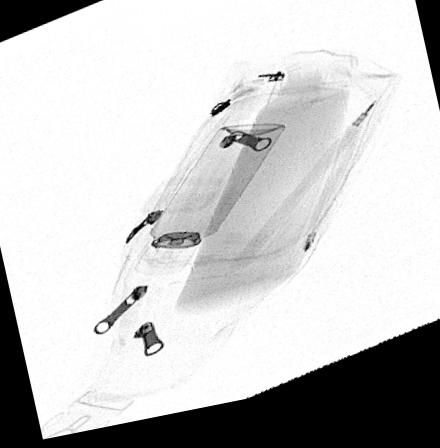Sprayer: (136, 133, 285, 283)
